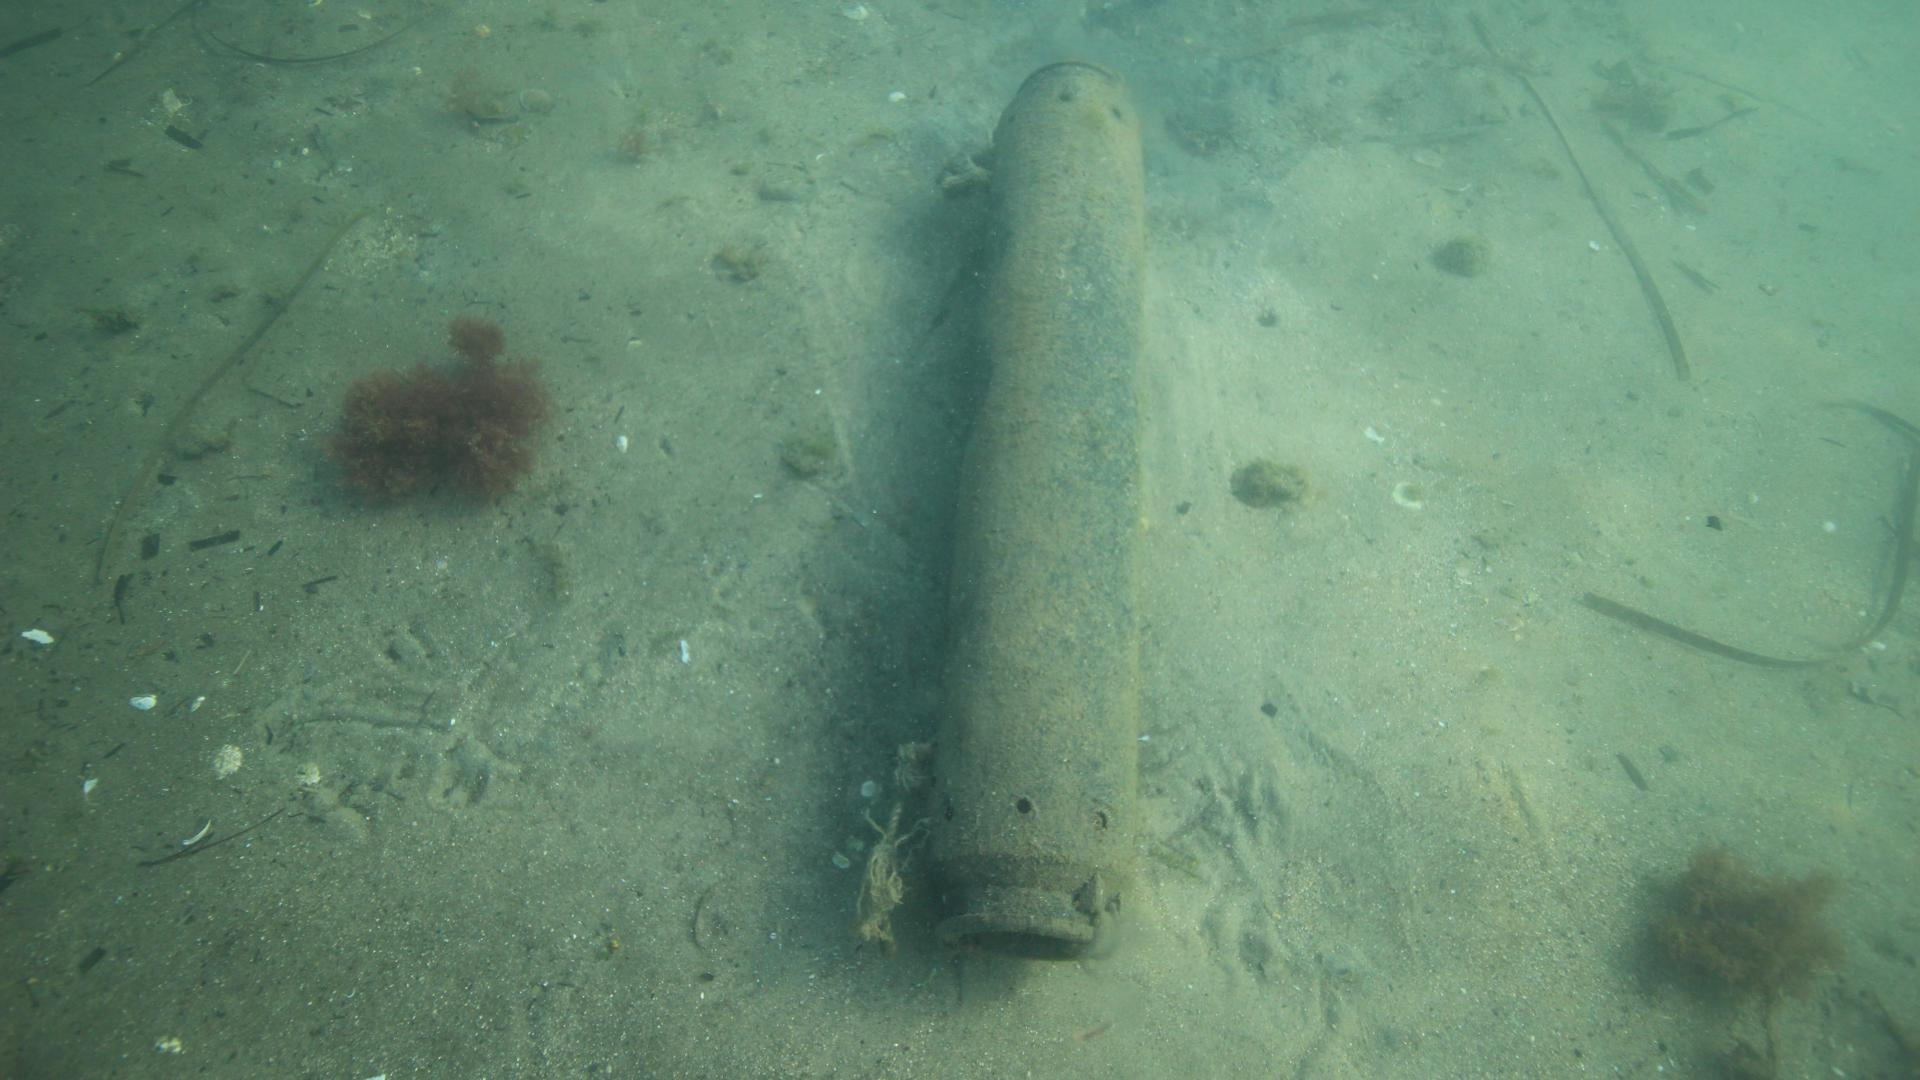eel fish trap: (919, 57, 1146, 968)
